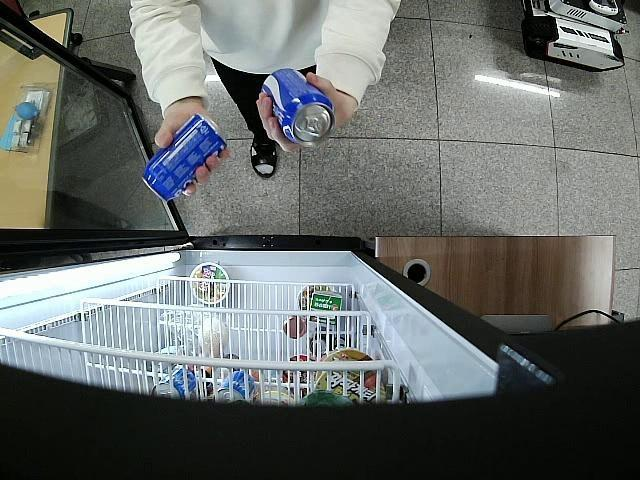13_pocariSweat: (139, 115, 226, 200), (259, 68, 336, 147)
